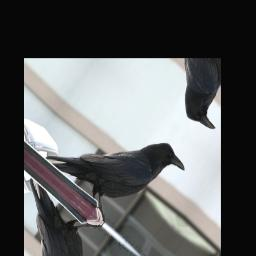Crow: (38, 83, 191, 246)
